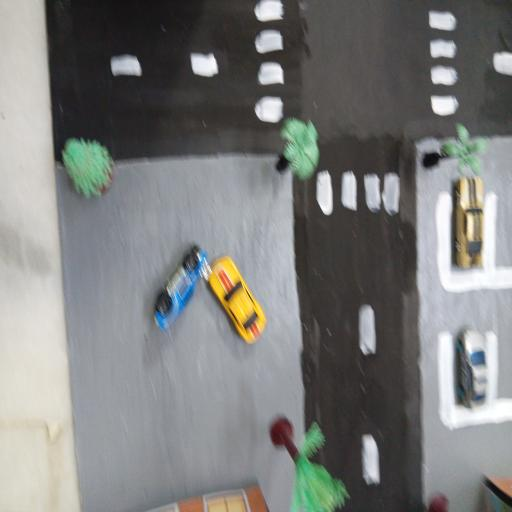car crash: (155, 242, 271, 350), (150, 246, 210, 330)
